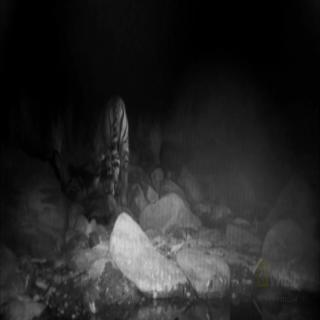Tiger: (85, 86, 132, 202)
